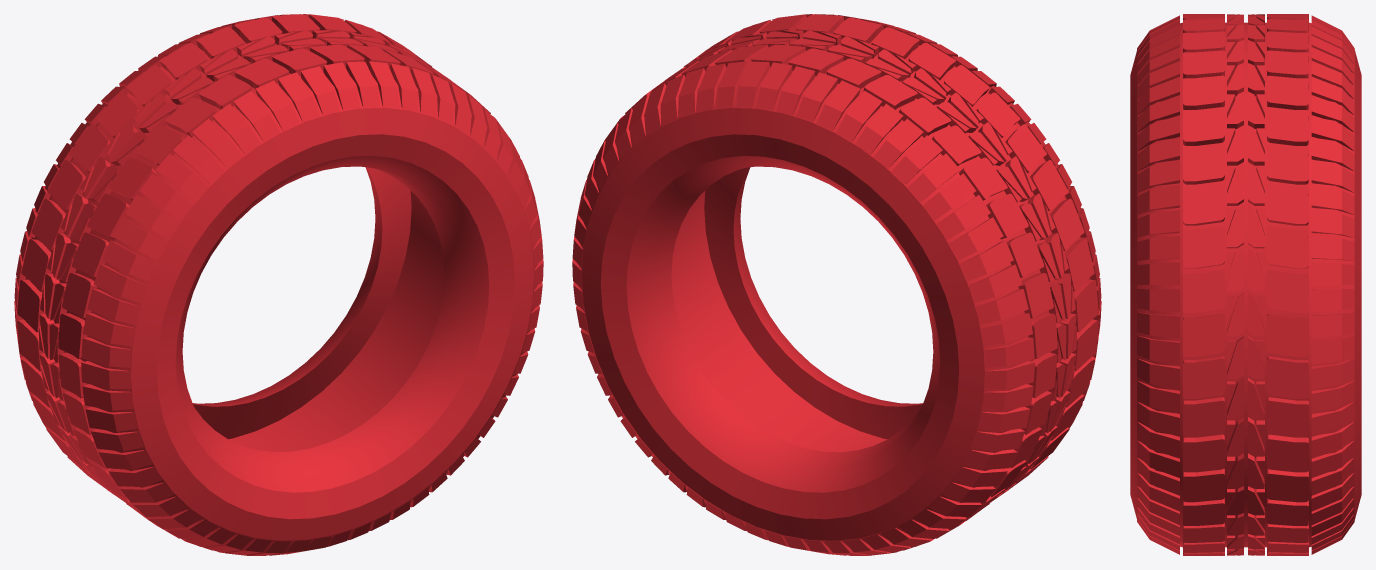
The model's file is Wheel.glb.
3 views of the same model, side by side, from view 1: azimuth 30°, elevation 25°; view 2: azimuth 150°, elevation 25°; view 3: azimuth 270°, elevation 25° (orthographic).
Parts seen in each view (by area): view 1: Torus Wheel.001, shape - outer outside wedge.004, shape - outer.005, shape - outer.006, shape - inner outside.006, shape - inner outside.004, shape - outer outside wedge.005, shape - inner inside.004, shape - inner inside.005; view 2: Torus Wheel.001, shape - outer outside wedge.005, shape - outer.006, shape - outer.005, shape - inner outside.004, shape - inner outside.006, shape - outer outside wedge.004, shape - inner inside.005, shape - inner inside.004; view 3: Torus Wheel.001, shape - outer.005, shape - outer.006, shape - outer outside wedge.005, shape - outer outside wedge.004, shape - inner outside.004, shape - inner outside.006, shape - inner inside.005, shape - inner inside.004.
Part boxes in pixels (left/top/right/bottom): Torus Wheel.001: left=23, top=42, right=537, bottom=546; shape - outer outside wedge.004: left=81, top=61, right=543, bottom=555; shape - outer.005: left=58, top=44, right=520, bottom=555; shape - outer.006: left=17, top=14, right=424, bottom=489; shape - inner outside.006: left=39, top=30, right=425, bottom=492; shape - inner outside.004: left=49, top=38, right=430, bottom=501; shape - outer outside wedge.005: left=14, top=14, right=377, bottom=428; shape - inner inside.004: left=54, top=41, right=447, bottom=505; shape - inner inside.005: left=39, top=30, right=431, bottom=498; Torus Wheel.001: left=578, top=42, right=1092, bottom=546; shape - outer outside wedge.005: left=572, top=61, right=1034, bottom=555; shape - outer.006: left=595, top=44, right=1057, bottom=555; shape - outer.005: left=691, top=14, right=1098, bottom=489; shape - inner outside.004: left=690, top=30, right=1076, bottom=492; shape - inner outside.006: left=685, top=38, right=1066, bottom=501; shape - outer outside wedge.004: left=738, top=14, right=1101, bottom=428; shape - inner inside.005: left=668, top=41, right=1061, bottom=505; shape - inner inside.004: left=684, top=30, right=1076, bottom=498; Torus Wheel.001: left=1130, top=22, right=1361, bottom=547; shape - outer.005: left=1183, top=14, right=1224, bottom=555; shape - outer.006: left=1267, top=14, right=1308, bottom=555; shape - outer outside wedge.005: left=1311, top=15, right=1354, bottom=554; shape - outer outside wedge.004: left=1137, top=15, right=1179, bottom=554; shape - inner outside.004: left=1227, top=14, right=1243, bottom=555; shape - inner outside.006: left=1248, top=14, right=1264, bottom=555; shape - inner inside.005: left=1256, top=14, right=1264, bottom=555; shape - inner inside.004: left=1227, top=14, right=1235, bottom=555.
Size of the model in its own units: 2.58 by 2.58 by 1.1.
